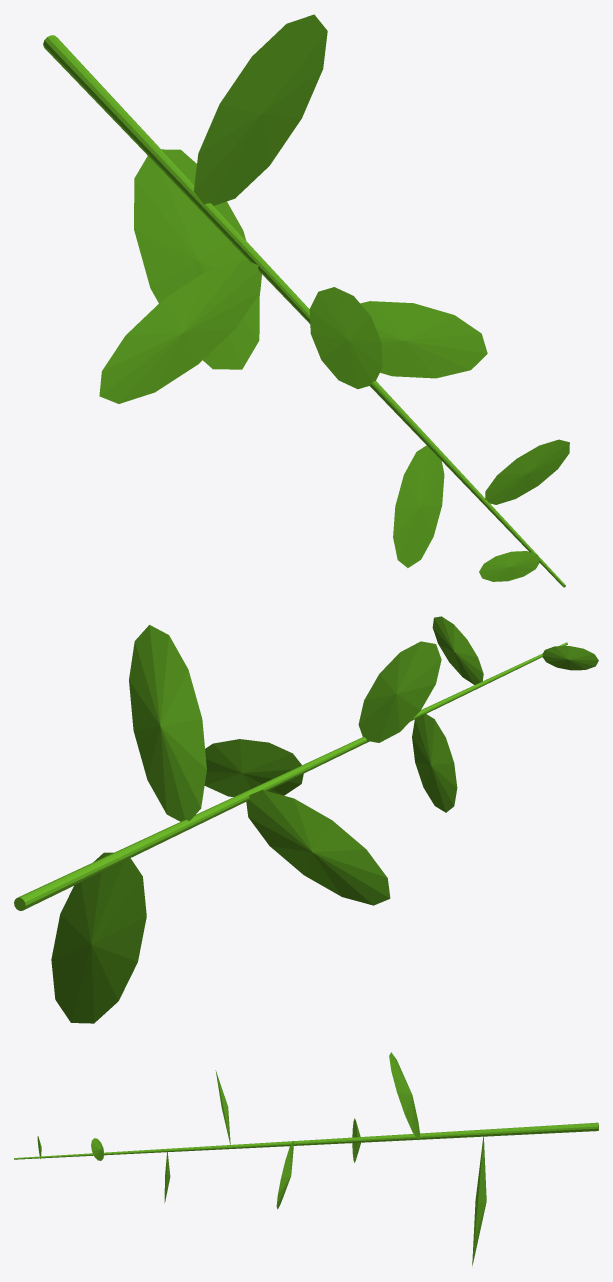
3 renders of one model, top to bottom at view 1: azimuth 30°, elevation 25°; view 2: azimuth 150°, elevation 25°; view 3: azimuth 270°, elevation 25°, orthographic. The views are drawn at different scales.
Bounding box in the file's own units: 0.1328 × 0.17 × 0.4304.
